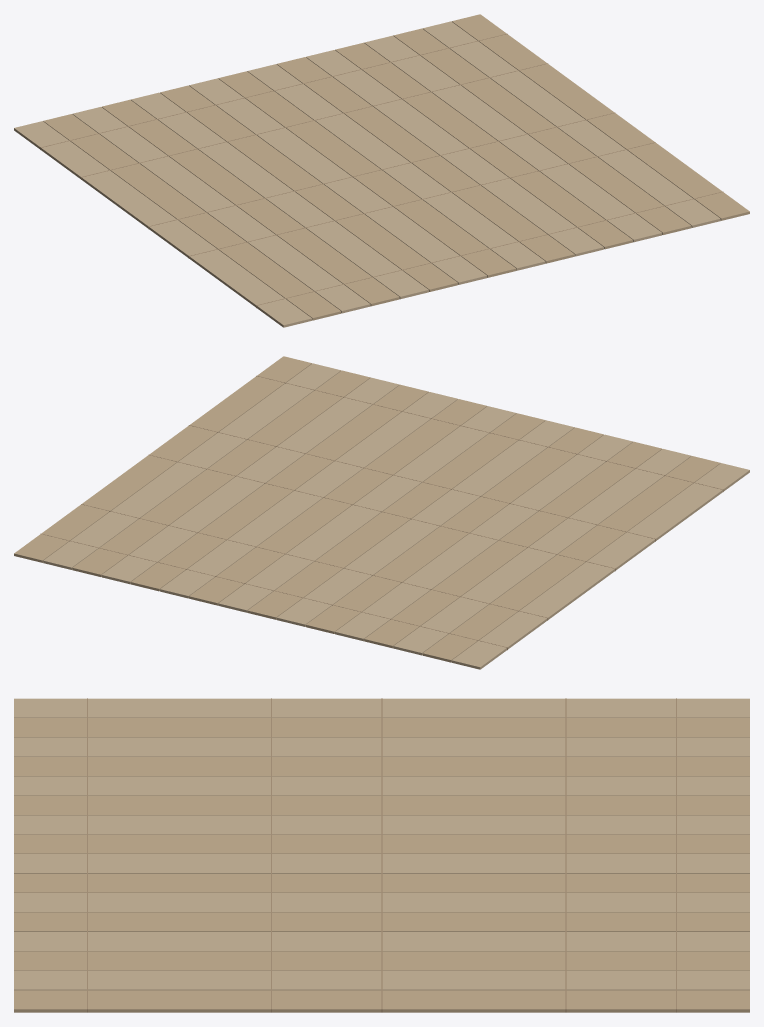
The model's file is home_floor_boards__oak.glb.
The picture shows the model from 3 angles, top to bottom: view 1: azimuth 30°, elevation 25°; view 2: azimuth 150°, elevation 25°; view 3: azimuth 270°, elevation 25°; orthographic projection. The views are drawn at different scales.
Bounding box in the file's own units: 8 × 0.042 × 8.
